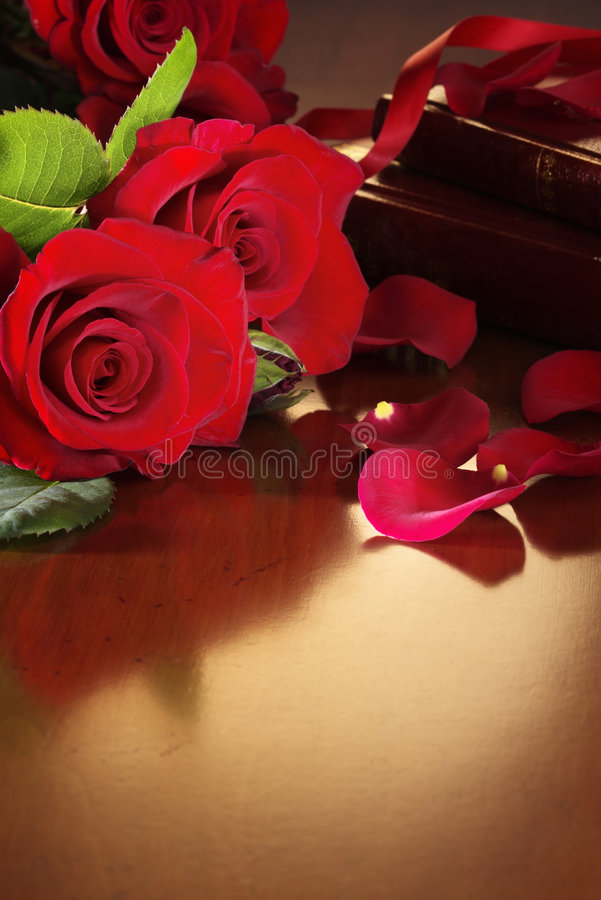RedRose: (0, 192, 250, 478), (134, 111, 388, 332), (0, 0, 301, 155)
